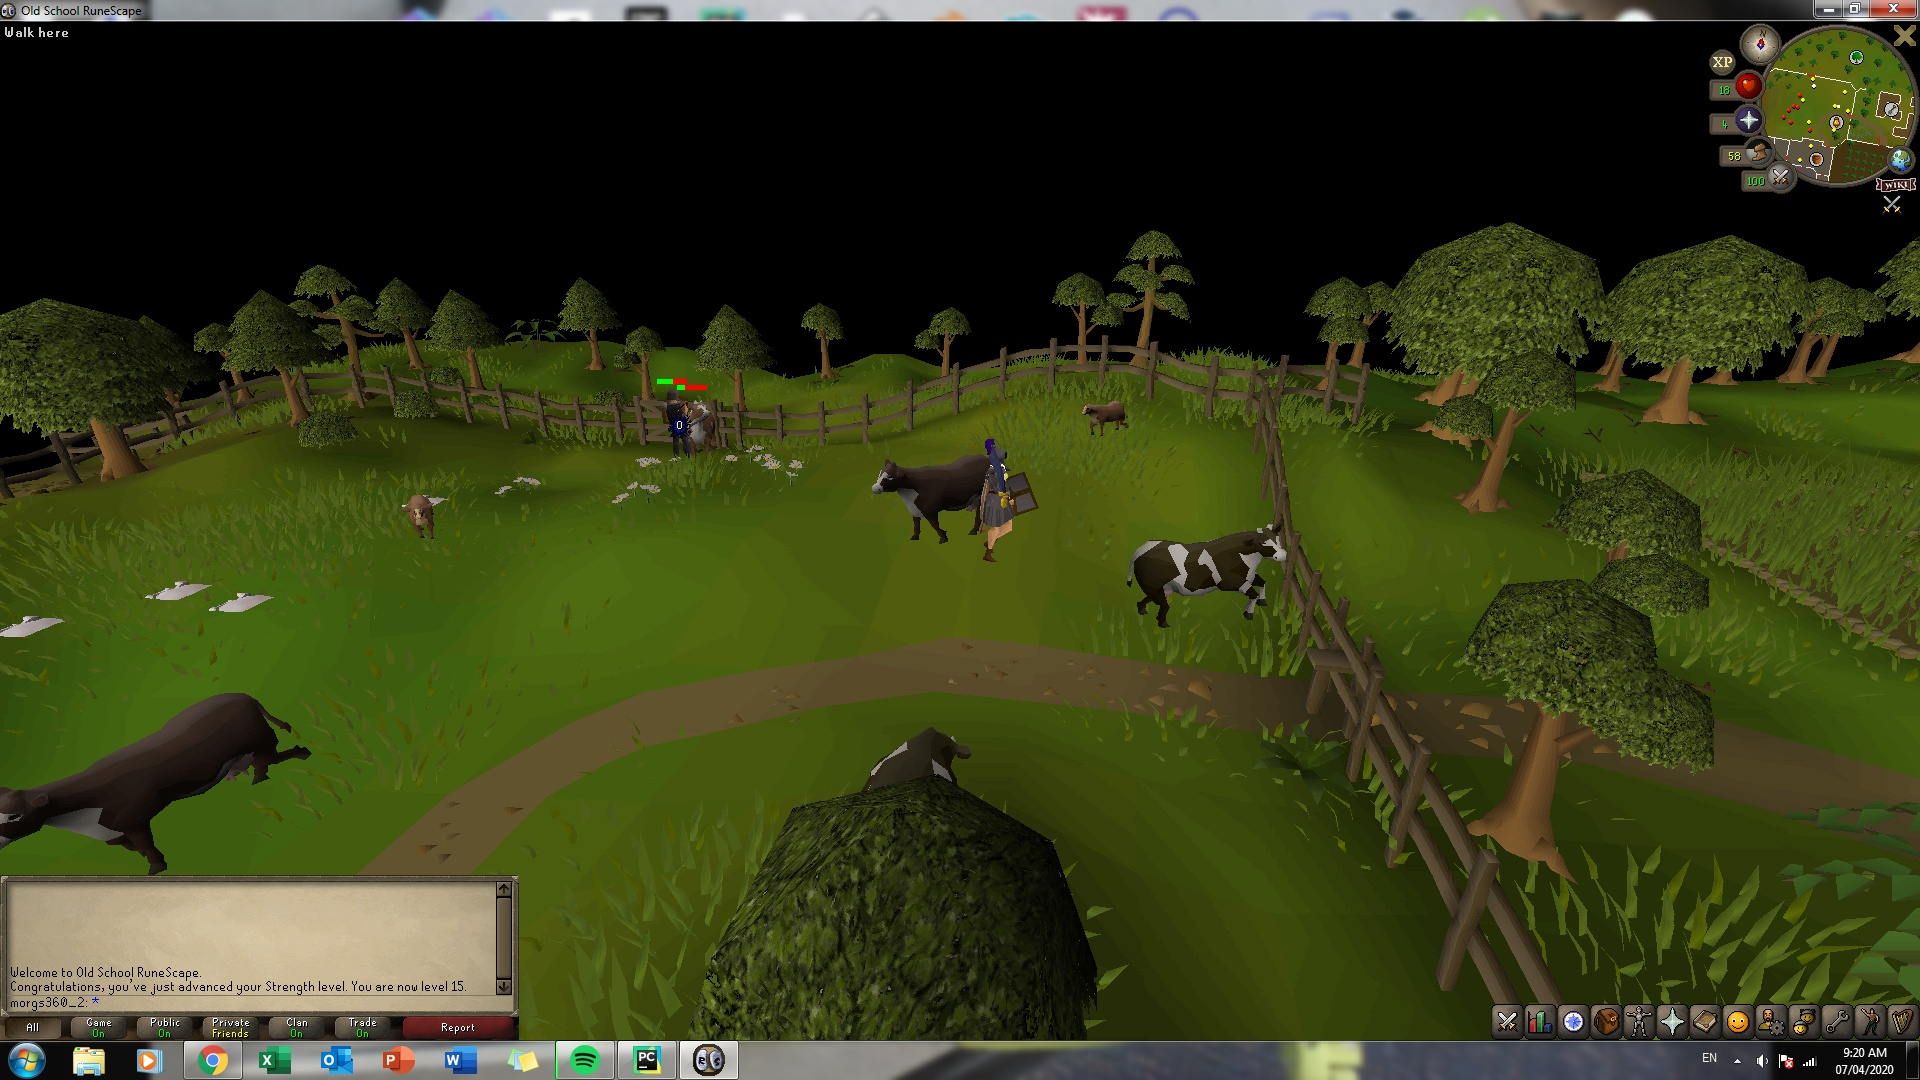cow: (3, 692, 314, 869), (1128, 518, 1287, 633), (874, 453, 981, 546), (678, 393, 725, 458), (1077, 396, 1134, 437), (403, 487, 442, 543)
player: (978, 436, 1019, 568)
